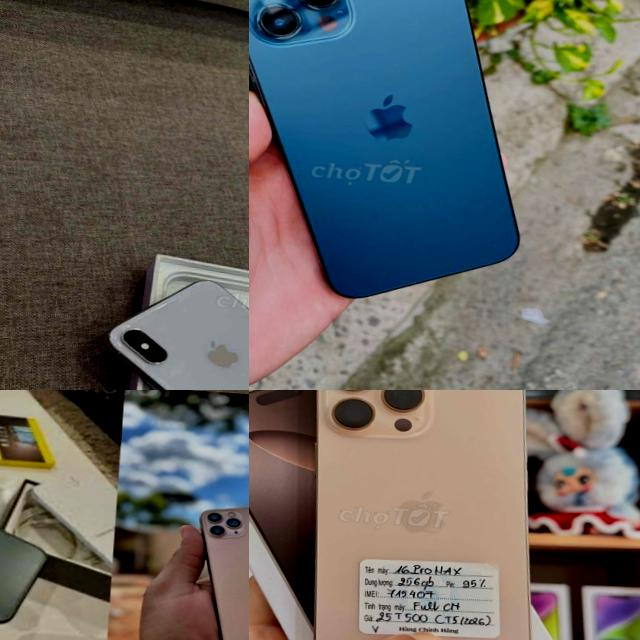gen_11: (188, 487, 249, 640)
gen_12_13: (249, 0, 547, 315)
gen_16: (290, 390, 562, 640)
gen_x_xs: (77, 262, 249, 390)
